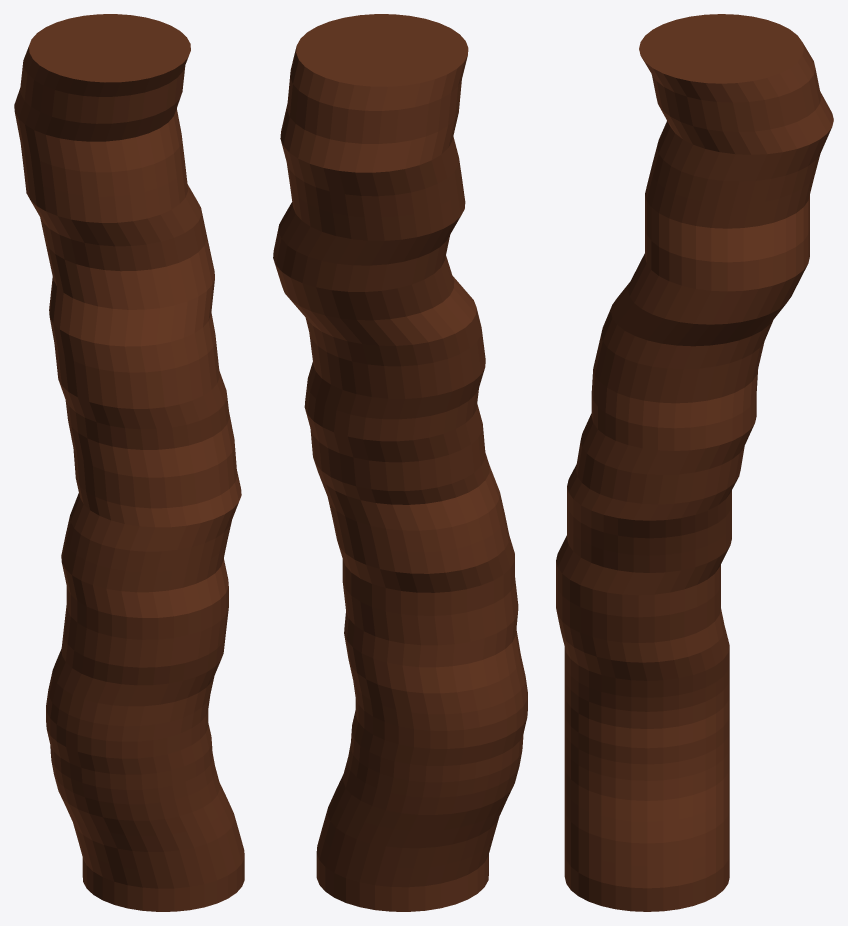
Rendered from Tree Trunk.fbx.
The picture shows the model from 3 angles, left to right: view 1: azimuth 30°, elevation 25°; view 2: azimuth 150°, elevation 25°; view 3: azimuth 270°, elevation 25°; orthographic projection. The views are drawn at different scales.
Parts seen in each view (by area): view 1: Cylinder; view 2: Cylinder; view 3: Cylinder.
Part boxes in pixels (box(x1,y1,x2,y2)): Cylinder: box(14, 14, 244, 911); Cylinder: box(273, 14, 527, 911); Cylinder: box(556, 14, 833, 911).
Bounding box in the file's own units: 254 × 1096 × 337.
